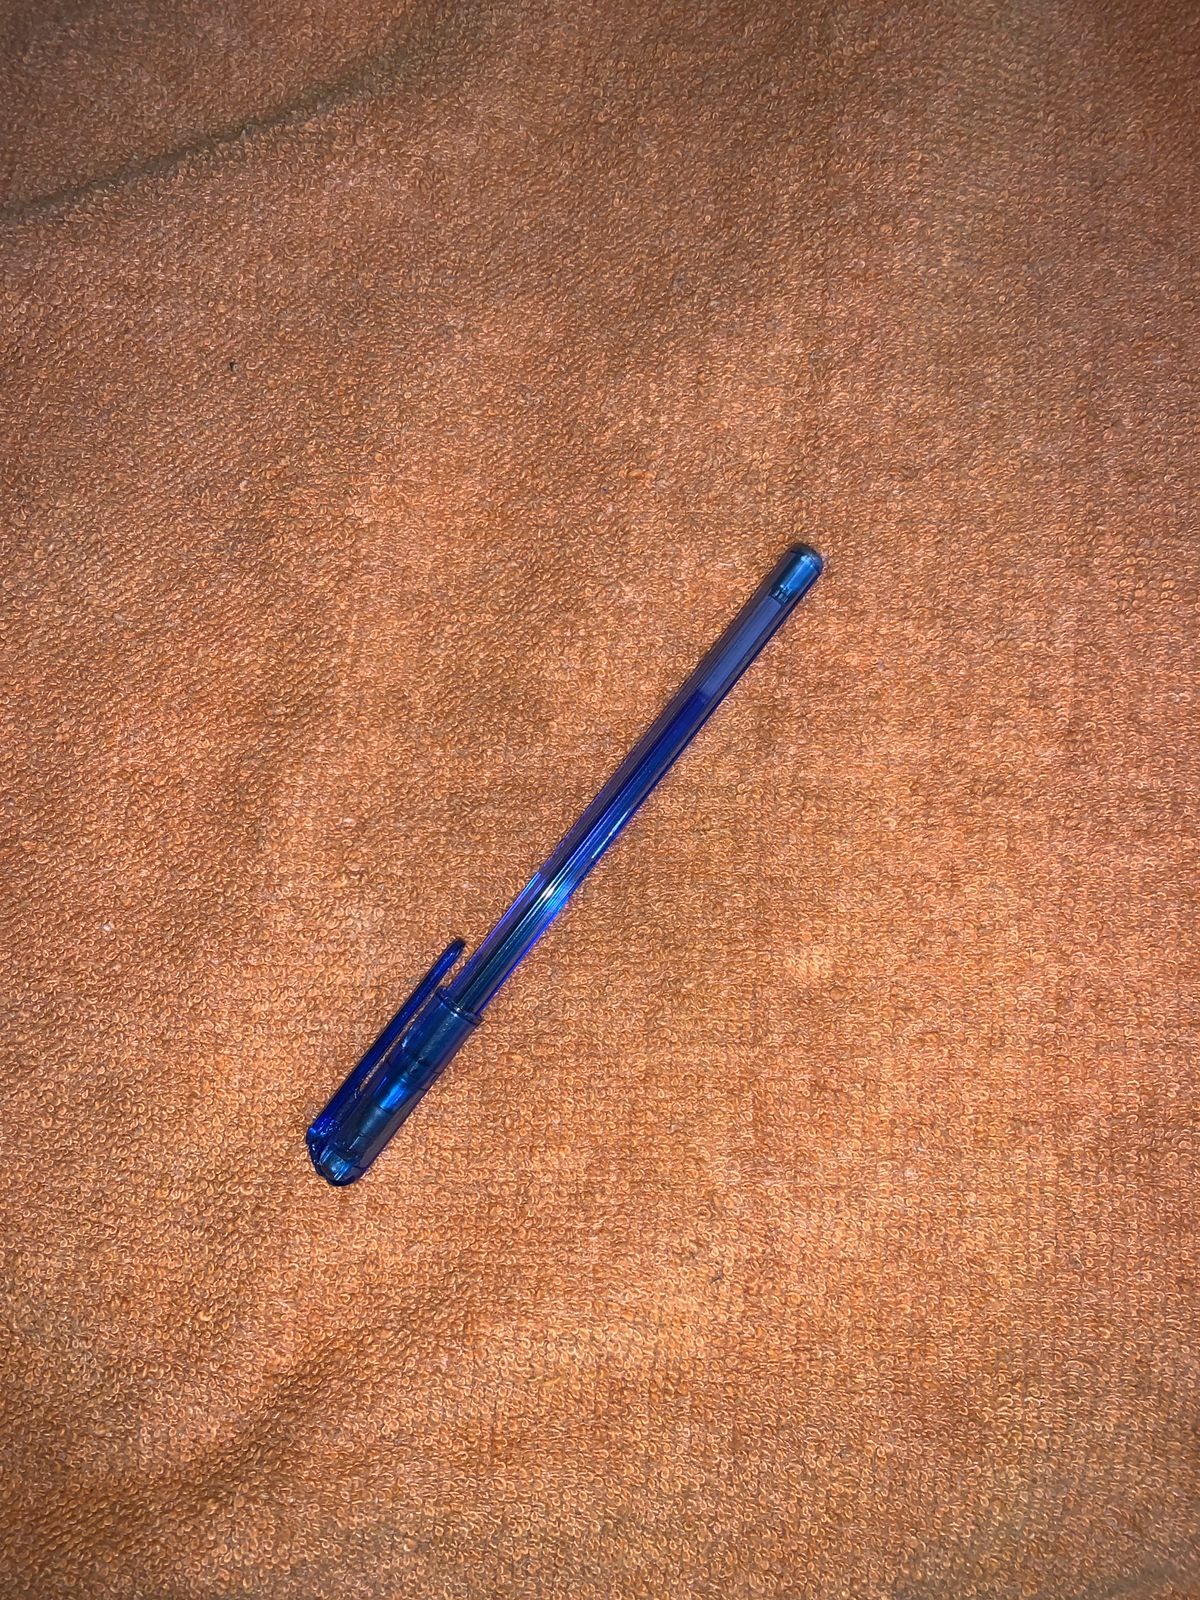pen: (202, 481, 908, 1313)
